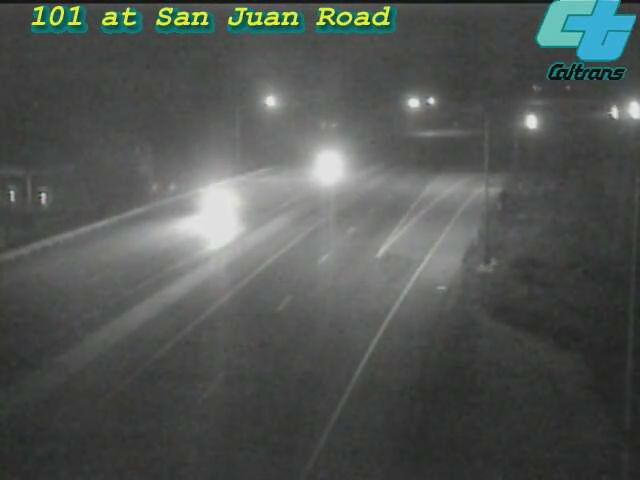vehicle: (186, 160, 266, 240), (287, 124, 367, 204), (506, 98, 556, 148), (586, 89, 636, 139), (607, 86, 640, 136)
